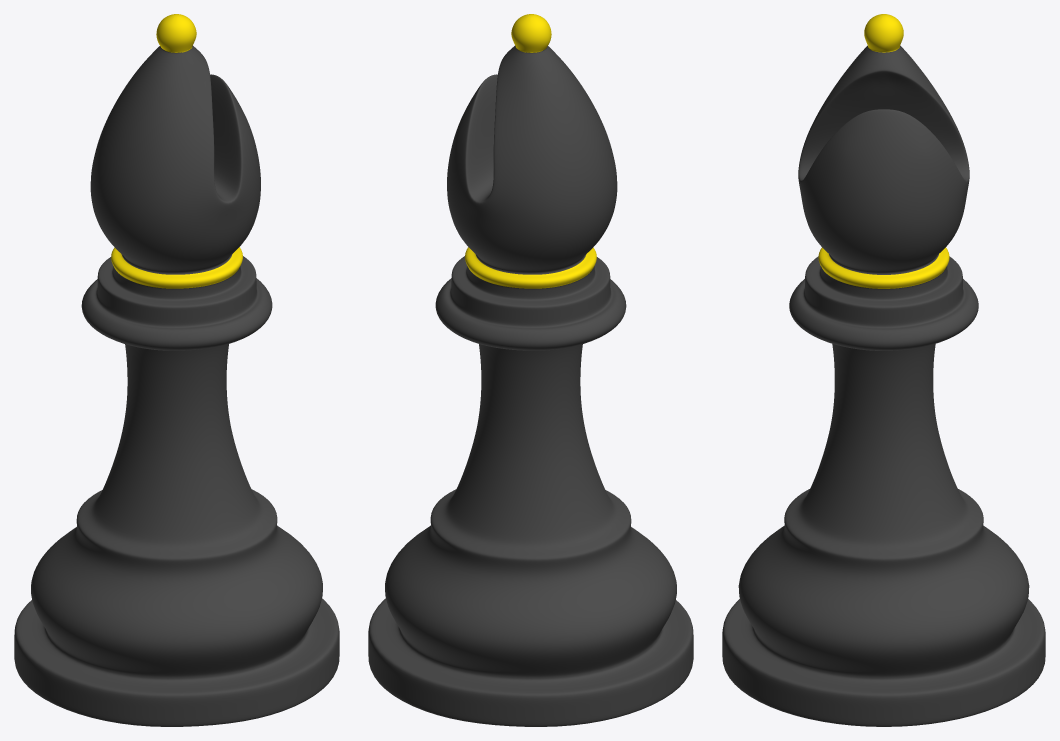
File: black bishop.fbx
3 renders of one model, left to right at view 1: azimuth 30°, elevation 25°; view 2: azimuth 150°, elevation 25°; view 3: azimuth 270°, elevation 25°, orthographic.
Parts seen in each view (by area): view 1: black bishop; view 2: black bishop; view 3: black bishop.
Part boxes in pixels (x1=…): black bishop: x1=14, y1=14, x2=339, y2=726; black bishop: x1=368, y1=14, x2=693, y2=726; black bishop: x1=722, y1=14, x2=1045, y2=726.
Size of the model in its own units: 97.59 by 213 by 96.77.
